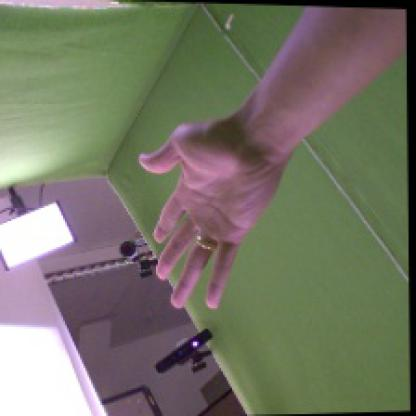Hand: (138, 121, 282, 310)
